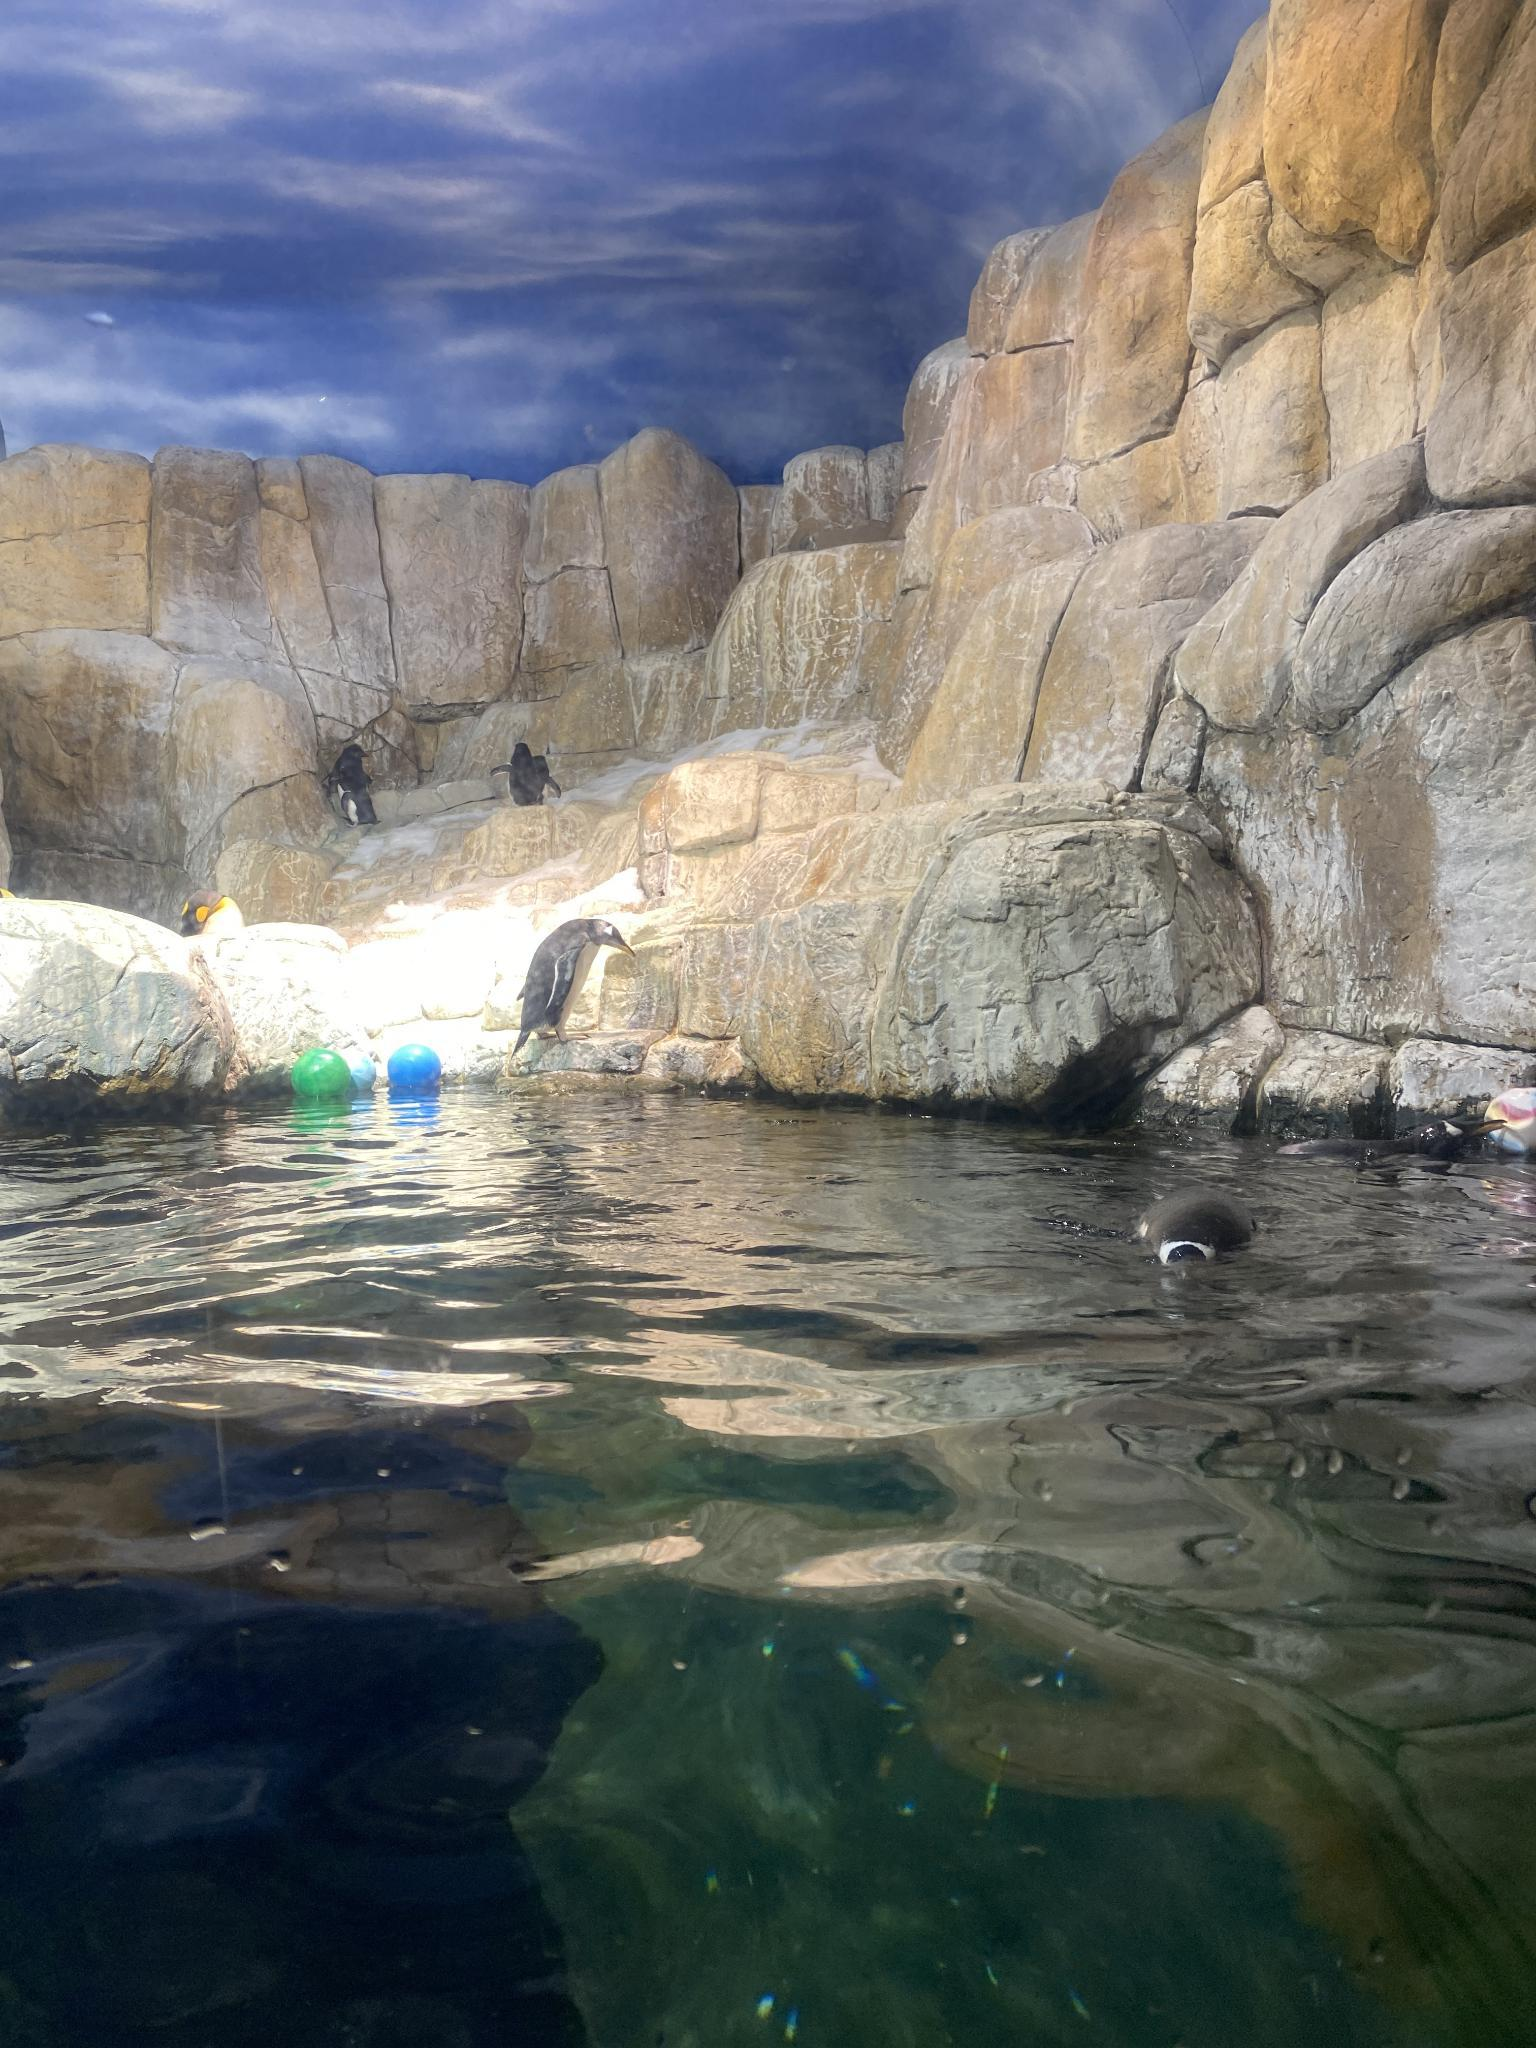penguin: (486, 905, 647, 1047), (1118, 1177, 1268, 1319), (321, 731, 390, 822), (502, 739, 566, 810), (186, 872, 248, 942)
